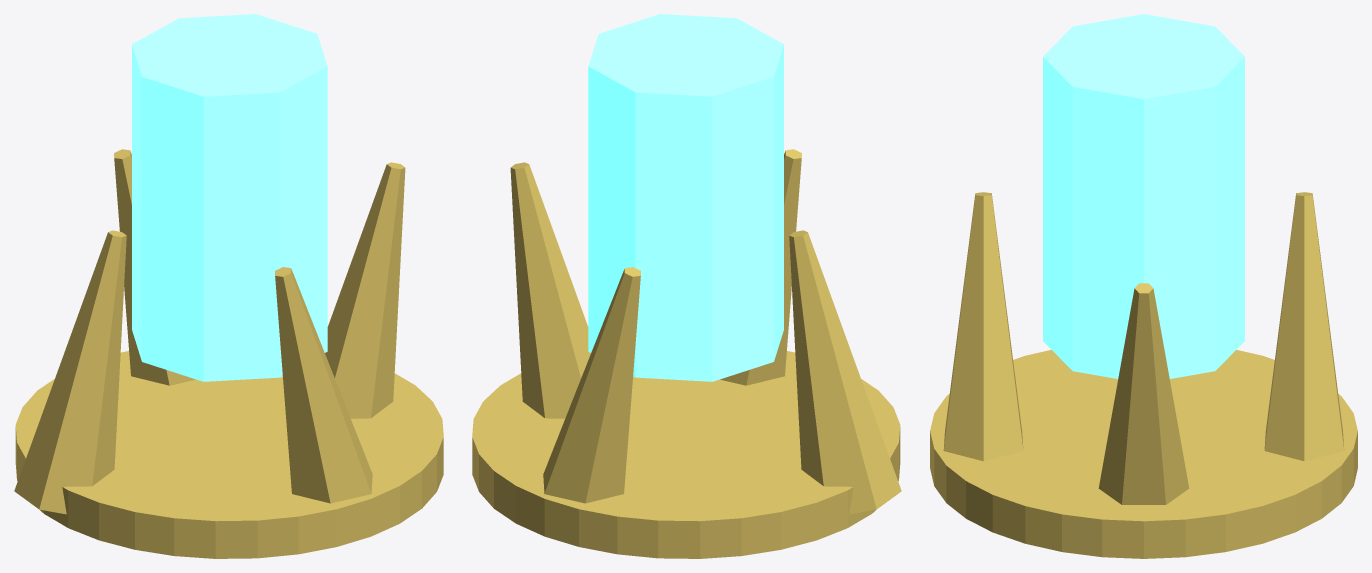
The model's file is pylon.glb.
3 views of the same model, side by side, from view 1: azimuth 30°, elevation 25°; view 2: azimuth 150°, elevation 25°; view 3: azimuth 270°, elevation 25° (orthographic).
Visible parts, largest first — view 1: Cylinder.001, Cylinder, Cone.002, Cone, Cone.003, Cone.001; view 2: Cylinder.001, Cylinder, Cone.002, Cone, Cone.001, Cone.003; view 3: Cylinder.001, Cylinder, Cone.001, Cone.003, Cone.
Boxes of the visible parts, <box> form: Cylinder.001: <box>132,14,327,381</box>; Cylinder: <box>15,351,443,558</box>; Cone.002: <box>14,230,126,514</box>; Cone: <box>325,162,405,418</box>; Cone.003: <box>275,267,372,503</box>; Cone.001: <box>114,149,195,385</box>; Cylinder.001: <box>588,14,783,381</box>; Cylinder: <box>472,351,900,558</box>; Cone.002: <box>789,230,901,514</box>; Cone: <box>510,162,590,418</box>; Cone.001: <box>543,267,640,503</box>; Cone.003: <box>720,149,801,385</box>; Cylinder.001: <box>1043,14,1244,378</box>; Cylinder: <box>930,350,1357,558</box>; Cone.001: <box>1264,192,1344,461</box>; Cone.003: <box>943,192,1023,461</box>; Cone: <box>1098,283,1189,504</box>.
Bounding box in the file's own units: 3.77 × 3.83 × 3.6.
